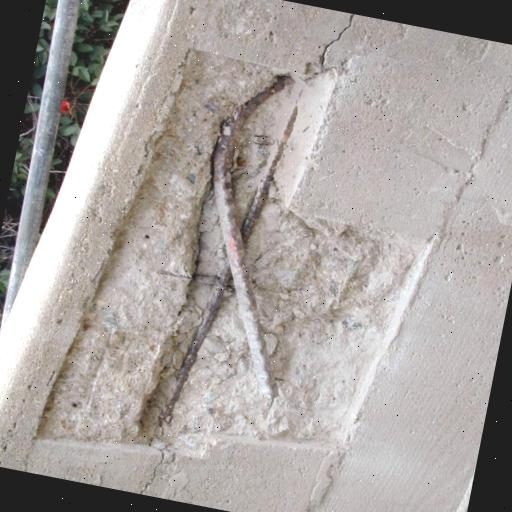spalling: (44, 46, 424, 448), (304, 13, 367, 80)
